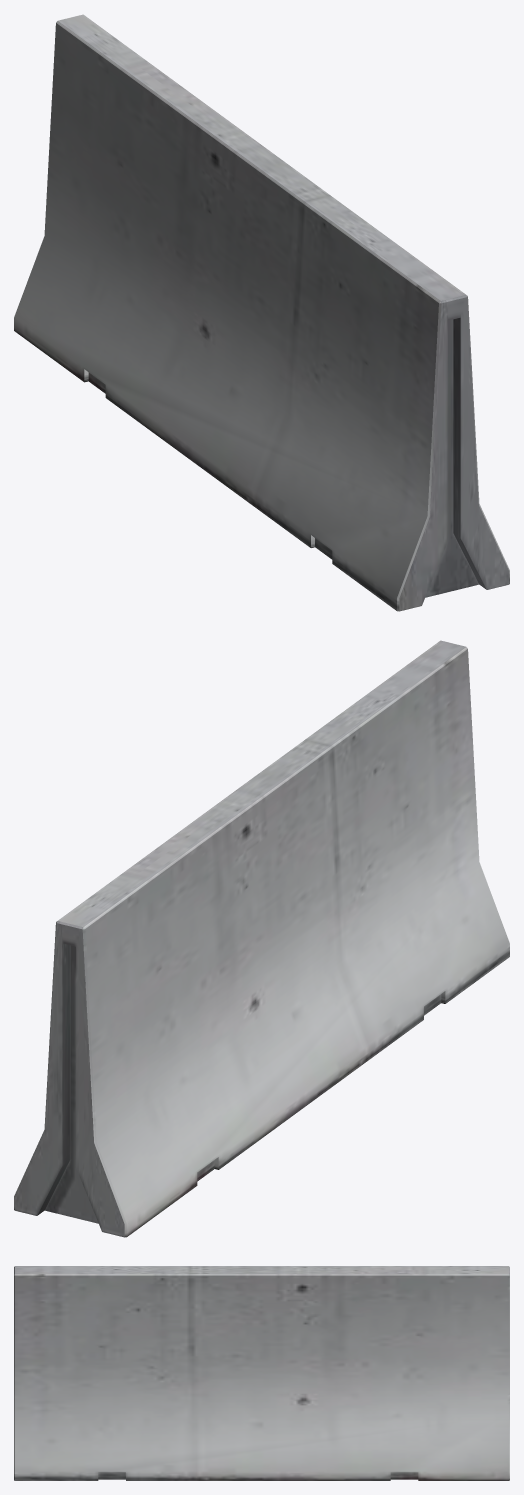
File: concrete_barrier001a.glb
3 views of the same model, one above another, from view 1: azimuth 30°, elevation 25°; view 2: azimuth 150°, elevation 25°; view 3: azimuth 270°, elevation 25° (orthographic). The views are drawn at different scales.
Visible parts, largest first — view 1: 0_Concrete_Barrier; view 2: 0_Concrete_Barrier; view 3: 0_Concrete_Barrier.
Part boxes in pixels (left/top/right/bottom): 0_Concrete_Barrier: left=14, top=14, right=509, bottom=611; 0_Concrete_Barrier: left=14, top=640, right=509, bottom=1237; 0_Concrete_Barrier: left=14, top=1266, right=509, bottom=1480.
Bounding box in the file's own units: 0.4812 × 1.22 × 2.84.
Materials: 1 (1 with a texture image).
